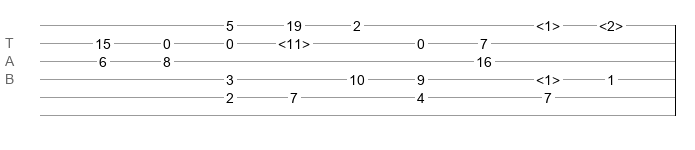0: (163, 36, 171, 46), (226, 36, 234, 46), (417, 36, 425, 46)
1: (607, 72, 615, 82)
10: (349, 72, 365, 82)
15: (95, 36, 111, 46)
16: (476, 54, 492, 64)
19: (286, 18, 302, 28)
2: (226, 90, 234, 100), (353, 18, 361, 28)
3: (226, 72, 234, 82)
4: (417, 90, 425, 100)
5: (226, 18, 234, 28)
6: (99, 54, 107, 64)
7: (290, 90, 298, 100), (480, 36, 488, 46), (544, 90, 552, 100)
8: (163, 54, 171, 64)
9: (417, 72, 425, 82)
harmonic: (278, 36, 310, 46), (536, 18, 560, 28), (536, 72, 560, 82), (599, 18, 623, 28)
